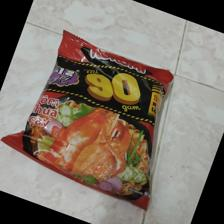Kokomi: (1, 29, 175, 211)
